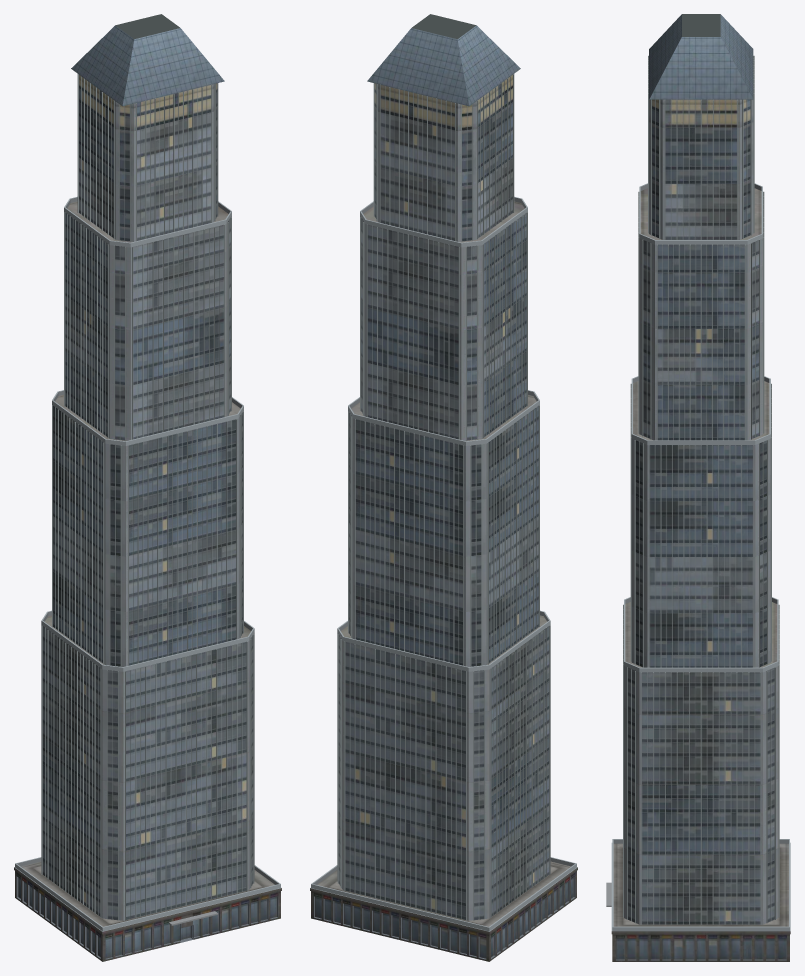
Rendered from nyc_glasstower_c.glb.
3 views of the same model, side by side, from view 1: azimuth 30°, elevation 25°; view 2: azimuth 150°, elevation 25°; view 3: azimuth 270°, elevation 25° (orthographic).
Parts seen in each view (by area): view 1: nyc_glasstower_c; view 2: nyc_glasstower_c; view 3: nyc_glasstower_c.
Boxes of the visible parts, x1,y1,x2,y2 form: nyc_glasstower_c: (14,14,281,961); nyc_glasstower_c: (310,14,577,961); nyc_glasstower_c: (606,14,790,961).
Size of the model in its own units: 54.31 by 255 by 47.75.
Materials: 1 (1 with a texture image).
